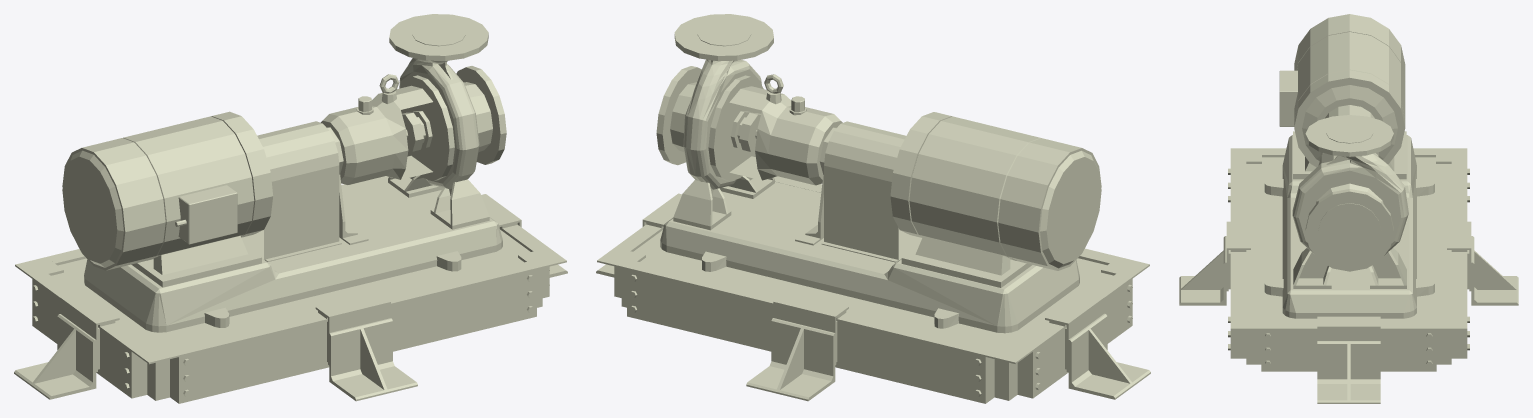
Rendered from Centrifugal Pump.fbx.
3 views of the same model, side by side, from view 1: azimuth 30°, elevation 25°; view 2: azimuth 150°, elevation 25°; view 3: azimuth 270°, elevation 25° (orthographic). The views are drawn at different scales.
Parts seen in each view (by area): view 1: Centrifugal Pump 185; view 2: Centrifugal Pump 185; view 3: Centrifugal Pump 185.
Part boxes in pixels (left/top/right/bottom): Centrifugal Pump 185: left=14, top=14, right=567, bottom=403; Centrifugal Pump 185: left=596, top=14, right=1150, bottom=403; Centrifugal Pump 185: left=1179, top=14, right=1518, bottom=403.
Bounding box in the file's own units: 5.49 × 3.52 × 2.56.
